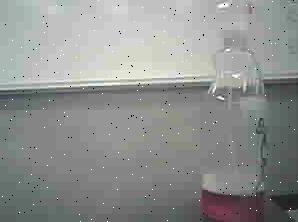hazard: (196, 0, 276, 222)
